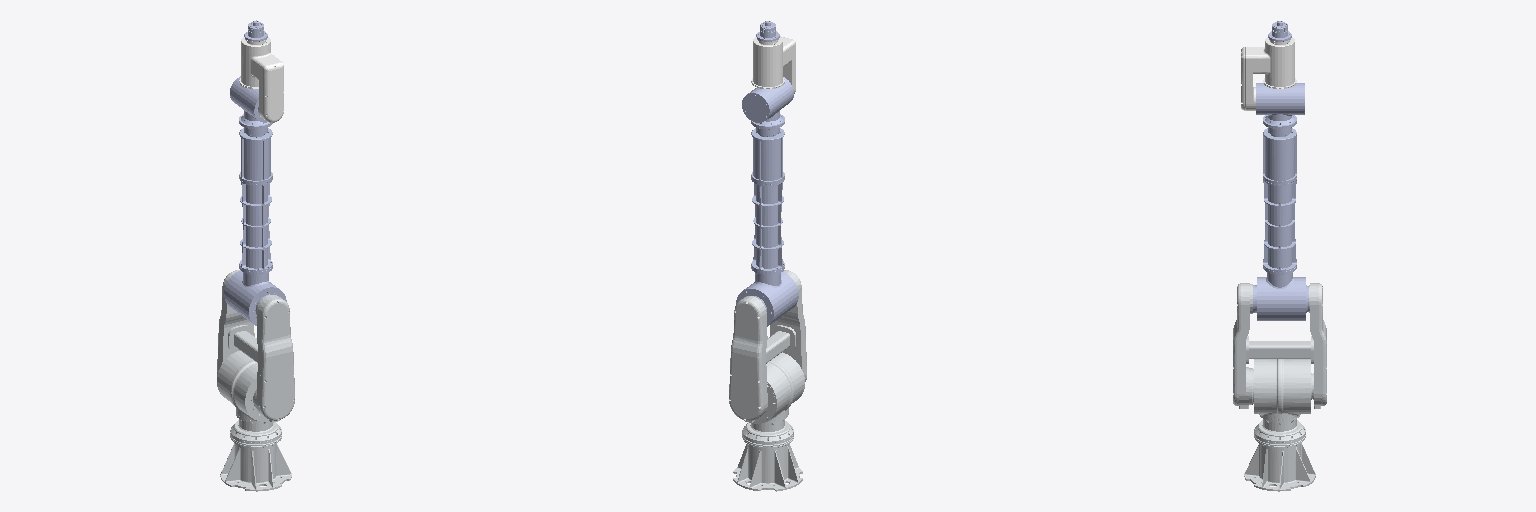
robot.urdf — DBRobot_V2_new:
<?xml version="1.0" encoding="utf-8"?>
<!-- This URDF was automatically created by SolidWorks to URDF Exporter! Originally created by [author] ([email redacted]) 
     Commit Version: 1.6.0-4-g7f85cfe  Build Version: 1.6.7995.38578
     For more information, please see http://wiki.ros.org/sw_urdf_exporter -->
<robot
  name="DBRobot_V2_new">
  <link
    name="base_link">
    <inertial>
      <origin
        xyz="1.1768E-07 7.0334E-08 0.084217"
        rpy="0 0 0" />
      <mass
        value="0.75651" />
      <inertia
        ixx="0.003373"
        ixy="5.1914E-09"
        ixz="-1.6604E-10"
        iyy="0.003373"
        iyz="1.9476E-10"
        izz="0.003741" />
    </inertial>
    <visual>
      <origin
        xyz="0 0 0"
        rpy="0 0 0" />
      <geometry>
        <mesh
          filename="package://DBRobot_V2_new/meshes/base_link.STL" />
      </geometry>
      <material
        name="">
        <color
          rgba="0.89804 0.91373 0.92549 1" />
      </material>
    </visual>
    <collision>
      <origin
        xyz="0 0 0"
        rpy="0 0 0" />
      <geometry>
        <mesh
          filename="package://DBRobot_V2_new/meshes/base_link.STL" />
      </geometry>
    </collision>
  </link>
  <link
    name="link1">
    <inertial>
      <origin
        xyz="-5.2005E-06 -1.6803E-06 -0.12751"
        rpy="0 0 0" />
      <mass
        value="0.26315" />
      <inertia
        ixx="0.00056834"
        ixy="-1.2378E-08"
        ixz="-3.0004E-08"
        iyy="0.00057236"
        iyz="-9.7188E-09"
        izz="0.00087858" />
    </inertial>
    <visual>
      <origin
        xyz="0 0 0"
        rpy="0 0 0" />
      <geometry>
        <mesh
          filename="package://DBRobot_V2_new/meshes/link1.STL" />
      </geometry>
      <material
        name="">
        <color
          rgba="0.89804 0.91373 0.92549 1" />
      </material>
    </visual>
    <collision>
      <origin
        xyz="0 0 0"
        rpy="0 0 0" />
      <geometry>
        <mesh
          filename="package://DBRobot_V2_new/meshes/link1.STL" />
      </geometry>
    </collision>
  </link>
  <joint
    name="joint1"
    type="revolute">
    <origin
      xyz="0 0 0.3085"
      rpy="0 0 0" />
    <parent
      link="base_link" />
    <child
      link="link1" />
    <axis
      xyz="0 0 -1" />
    <limit
      lower="-3.14"
      upper="3.14"
      effort="0"
      velocity="0" />
  </joint>
  <link
    name="link2">
    <inertial>
      <origin
        xyz="0.13131 1.3425E-06 0.00035015"
        rpy="0 0 0" />
      <mass
        value="0.8462" />
      <inertia
        ixx="0.0022634"
        ixy="-4.7042E-09"
        ixz="5.7583E-06"
        iyy="0.010823"
        iyz="-1.0593E-08"
        izz="0.01047" />
    </inertial>
    <visual>
      <origin
        xyz="0 0 0"
        rpy="0 0 0" />
      <geometry>
        <mesh
          filename="package://DBRobot_V2_new/meshes/link2.STL" />
      </geometry>
      <material
        name="">
        <color
          rgba="0.89804 0.91373 0.92549 1" />
      </material>
    </visual>
    <collision>
      <origin
        xyz="0 0 0"
        rpy="0 0 0" />
      <geometry>
        <mesh
          filename="package://DBRobot_V2_new/meshes/link2.STL" />
      </geometry>
    </collision>
  </link>
  <joint
    name="joint2"
    type="revolute">
    <origin
      xyz="0 0 0"
      rpy="-1.5708 -1.5708 0" />
    <parent
      link="link1" />
    <child
      link="link2" />
    <axis
      xyz="0 0 1" />
    <limit
      lower="-3.14"
      upper="3.14"
      effort="0"
      velocity="0" />
  </joint>
  <link
    name="link3">
    <inertial>
      <origin
        xyz="-2.0296E-16 -0.26684 -2.4328E-09"
        rpy="0 0 0" />
      <mass
        value="0.31271" />
      <inertia
        ixx="0.0031288"
        ixy="-2.7585E-18"
        ixz="-2.1684E-19"
        iyy="0.00048487"
        iyz="3.2296E-18"
        izz="0.0031223" />
    </inertial>
    <visual>
      <origin
        xyz="0 0 0"
        rpy="0 0 0" />
      <geometry>
        <mesh
          filename="package://DBRobot_V2_new/meshes/link3.STL" />
      </geometry>
      <material
        name="">
        <color
          rgba="0.79216 0.81961 0.93333 1" />
      </material>
    </visual>
    <collision>
      <origin
        xyz="0 0 0"
        rpy="0 0 0" />
      <geometry>
        <mesh
          filename="package://DBRobot_V2_new/meshes/link3.STL" />
      </geometry>
    </collision>
  </link>
  <joint
    name="joint3"
    type="revolute">
    <origin
      xyz="0.3 0 0"
      rpy="0 0 1.5708" />
    <parent
      link="link2" />
    <child
      link="link3" />
    <axis
      xyz="0 0 1" />
    <limit
      lower="-3.14"
      upper="3.14"
      effort="0"
      velocity="0" />
  </joint>
  <link
    name="link4">
    <inertial>
      <origin
        xyz="0.00012914 -0.012319 -0.64537"
        rpy="0 0 0" />
      <mass
        value="8.9388" />
      <inertia
        ixx="1.8363"
        ixy="-3.8552E-05"
        ixz="0.00067848"
        iyy="1.821"
        iyz="0.004584"
        izz="0.037636" />
    </inertial>
    <visual>
      <origin
        xyz="0 0 0"
        rpy="0 0 0" />
      <geometry>
        <mesh
          filename="package://DBRobot_V2_new/meshes/link4.STL" />
      </geometry>
      <material
        name="">
        <color
          rgba="0.79216 0.81961 0.93333 1" />
      </material>
    </visual>
    <collision>
      <origin
        xyz="0 0 0"
        rpy="0 0 0" />
      <geometry>
        <mesh
          filename="package://DBRobot_V2_new/meshes/link4.STL" />
      </geometry>
    </collision>
  </link>
  <joint
    name="joint4"
    type="revolute">
    <origin
      xyz="0 -0.6865 0"
      rpy="1.5708 0 0" />
    <parent
      link="link3" />
    <child
      link="link4" />
    <axis
      xyz="0 0 -1" />
    <limit
      lower="-3.14"
      upper="3.14"
      effort="0"
      velocity="0" />
  </joint>
  <link
    name="link5">
    <inertial>
      <origin
        xyz="0.00012914 0.64537 -0.012319"
        rpy="0 0 0" />
      <mass
        value="8.9388" />
      <inertia
        ixx="1.8363"
        ixy="-0.00067848"
        ixz="-3.8552E-05"
        iyy="0.037636"
        iyz="-0.004584"
        izz="1.821" />
    </inertial>
    <visual>
      <origin
        xyz="0 0 0"
        rpy="0 0 0" />
      <geometry>
        <mesh
          filename="package://DBRobot_V2_new/meshes/link5.STL" />
      </geometry>
      <material
        name="">
        <color
          rgba="1 1 1 1" />
      </material>
    </visual>
    <collision>
      <origin
        xyz="0 0 0"
        rpy="0 0 0" />
      <geometry>
        <mesh
          filename="package://DBRobot_V2_new/meshes/link5.STL" />
      </geometry>
    </collision>
  </link>
  <joint
    name="joint5"
    type="revolute">
    <origin
      xyz="0 0 0"
      rpy="-1.5708 0 0" />
    <parent
      link="link4" />
    <child
      link="link5" />
    <axis
      xyz="0 0 -1" />
    <limit
      lower="-3.14"
      upper="3.14"
      effort="0"
      velocity="0" />
  </joint>
  <link
    name="link6">
    <inertial>
      <origin
        xyz="-0.00011235 -0.00012054 -0.042956"
        rpy="0 0 0" />
      <mass
        value="0.029034" />
      <inertia
        ixx="9.936E-06"
        ixy="6.2257E-08"
        ixz="7.8904E-09"
        iyy="1.0006E-05"
        iyz="2.7722E-08"
        izz="1.8171E-05" />
    </inertial>
    <visual>
      <origin
        xyz="0 0 0"
        rpy="0 0 0" />
      <geometry>
        <mesh
          filename="package://DBRobot_V2_new/meshes/link6.STL" />
      </geometry>
      <material
        name="">
        <color
          rgba="0.79216 0.81961 0.92941 1" />
      </material>
    </visual>
    <collision>
      <origin
        xyz="0 0 0"
        rpy="0 0 0" />
      <geometry>
        <mesh
          filename="package://DBRobot_V2_new/meshes/link6.STL" />
      </geometry>
    </collision>
  </link>
  <joint
    name="joint6"
    type="revolute">
    <origin
      xyz="0 -0.2654 0"
      rpy="1.5708 0 0" />
    <parent
      link="link5" />
    <child
      link="link6" />
    <axis
      xyz="0 0 -1" />
    <limit
      lower="-3.14"
      upper="3.14"
      effort="0"
      velocity="0" />
  </joint>
</robot>

--- Facts derived from the render (not from the file) ---
3 views of the same robot in one strip: view 1: azimuth 30°, elevation 25°; view 2: azimuth 150°, elevation 25°; view 3: azimuth 270°, elevation 25° (orthographic).
Robot: DBRobot_V2_new — 7 links, 6 joints (6 revolute); root link base_link; default pose: every joint at zero.
Links seen in each view (by area): view 1: link2, link3, link1, base_link, link5, link4; view 2: link2, link3, link1, base_link, link5, link4; view 3: link3, link2, link1, base_link, link5, link4.
Boxes of the visible links, <box> form: link2: <box>217,270,294,422</box>; link3: <box>224,128,286,325</box>; link1: <box>217,351,281,442</box>; base_link: <box>220,432,291,491</box>; link5: <box>239,37,283,122</box>; link4: <box>230,76,272,135</box>; link2: <box>729,270,806,422</box>; link3: <box>736,128,798,326</box>; link1: <box>742,352,804,442</box>; base_link: <box>733,433,802,491</box>; link5: <box>751,36,795,93</box>; link4: <box>742,77,793,135</box>; link3: <box>1253,128,1308,320</box>; link2: <box>1233,283,1326,408</box>; link1: <box>1249,359,1312,442</box>; base_link: <box>1244,433,1315,491</box>; link5: <box>1241,37,1296,110</box>; link4: <box>1256,83,1304,135</box>.
Bounding box of the posed robot: 0.2218 × 0.2919 × 1.56 m (x, y, z).
Meshes: 7 distinct files referenced, 7 mesh visuals loaded (7 binary STL).